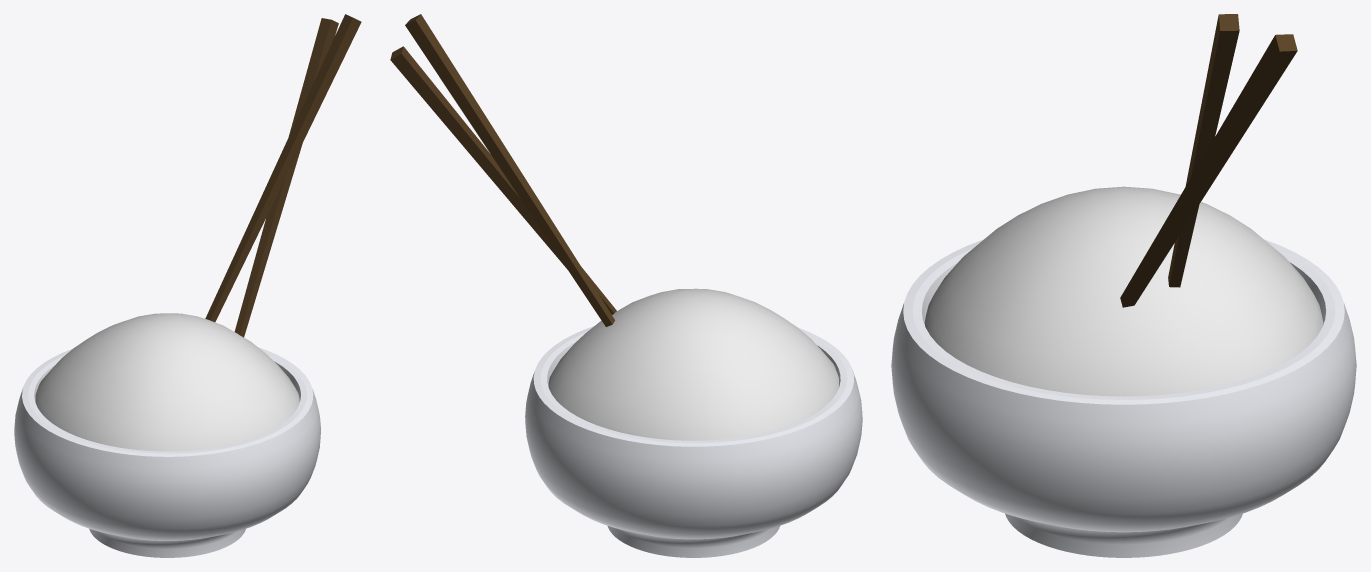
File: Brown_rice.fbx
3 views of the same model, side by side, from view 1: azimuth 30°, elevation 25°; view 2: azimuth 150°, elevation 25°; view 3: azimuth 270°, elevation 25° (orthographic). The views are drawn at different scales.
Visible parts, largest first — view 1: Bowl, Rice, Chopsticks; view 2: Bowl, Rice, Chopsticks; view 3: Bowl, Rice, Chopsticks.
Part boxes in pixels (x1=…): Bowl: x1=14, y1=347, x2=320, y2=557; Rice: x1=35, y1=313, x2=299, y2=451; Chopsticks: x1=205, y1=14, x2=361, y2=337; Bowl: x1=525, y1=326, x2=862, y2=557; Rice: x1=548, y1=288, x2=838, y2=440; Chopsticks: x1=390, y1=14, x2=616, y2=326; Bowl: x1=891, y1=239, x2=1356, y2=557; Rice: x1=924, y1=186, x2=1323, y2=396; Chopsticks: x1=1120, y1=14, x2=1297, y2=307.
Size of the model in its own units: 324 by 372 by 240.
